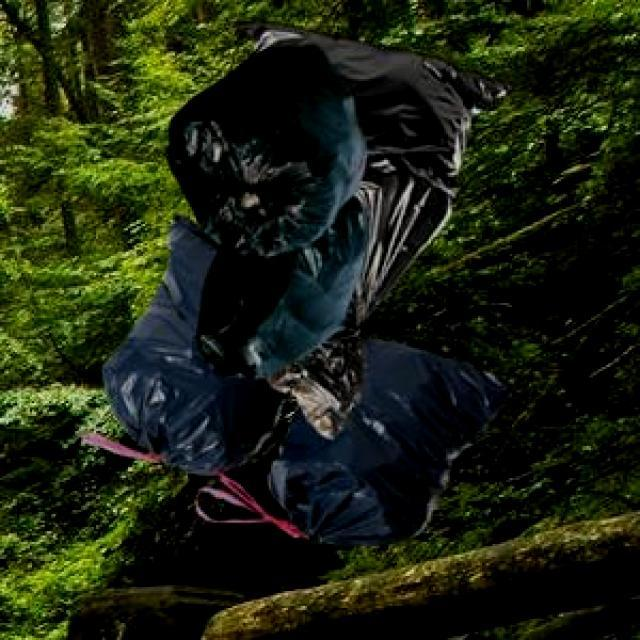Trashbag: (276, 335, 498, 546), (168, 42, 371, 252), (102, 232, 261, 472)
